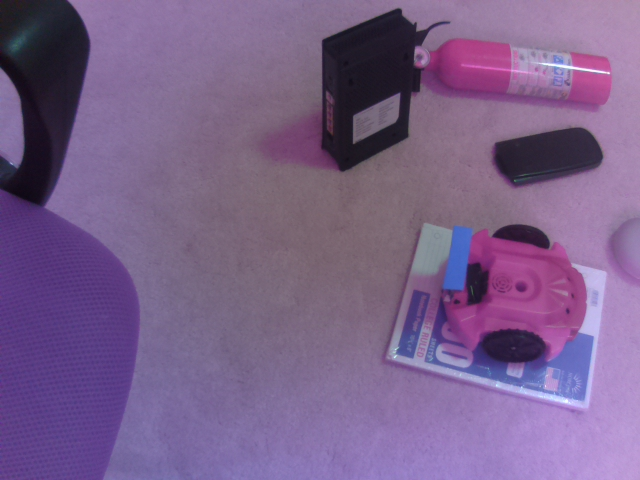board: (440, 221, 478, 300)
chassis: (437, 213, 588, 369)
